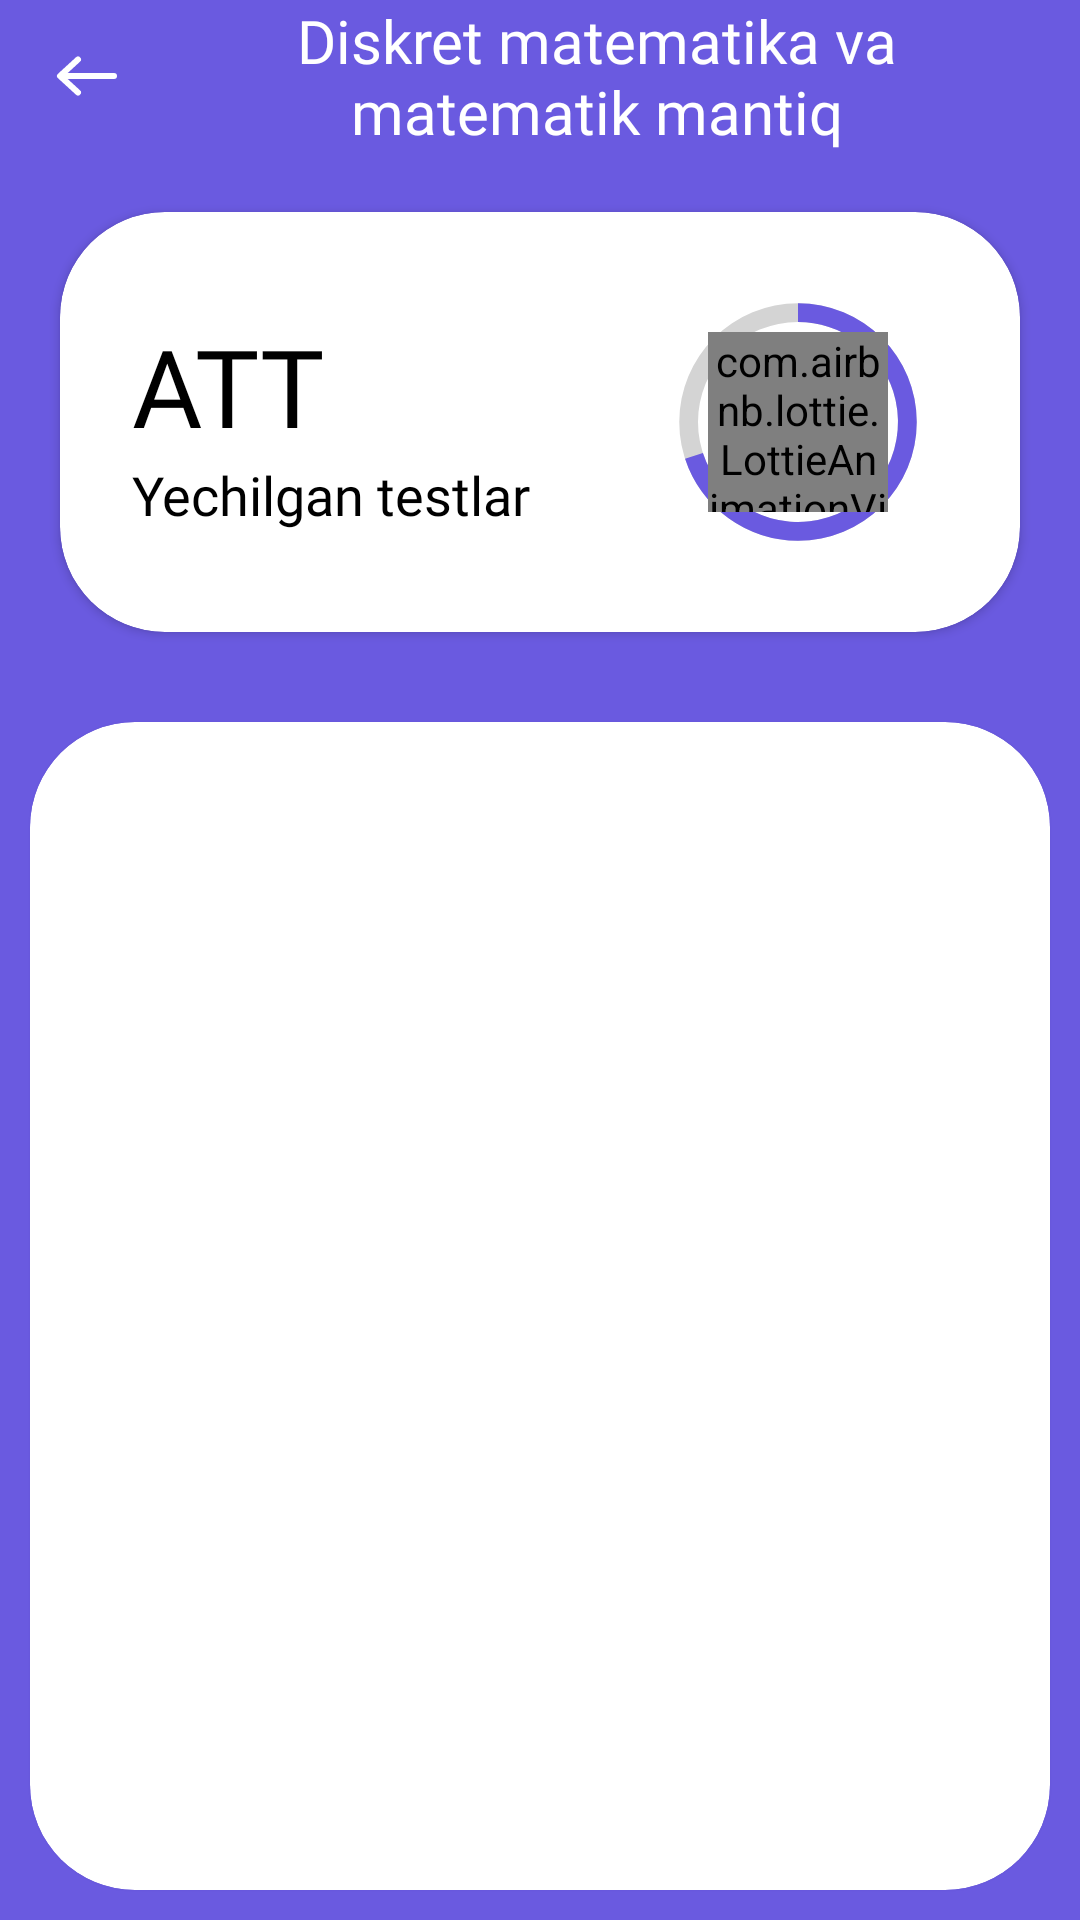

Named icons in this screenshot (1080px x 1920px) and their centers, (x=x, y=y):
back: (x=87, y=76)
